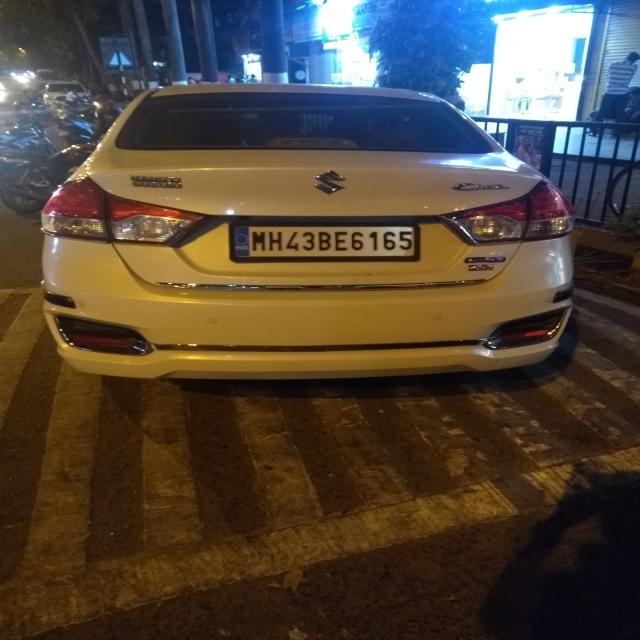Number-Plate: (235, 222, 421, 260)
